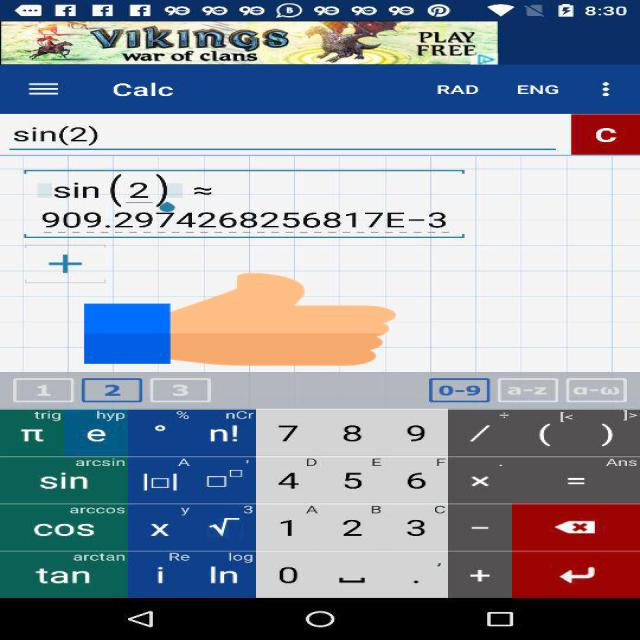privacy zuckering: (84, 271, 396, 368)
